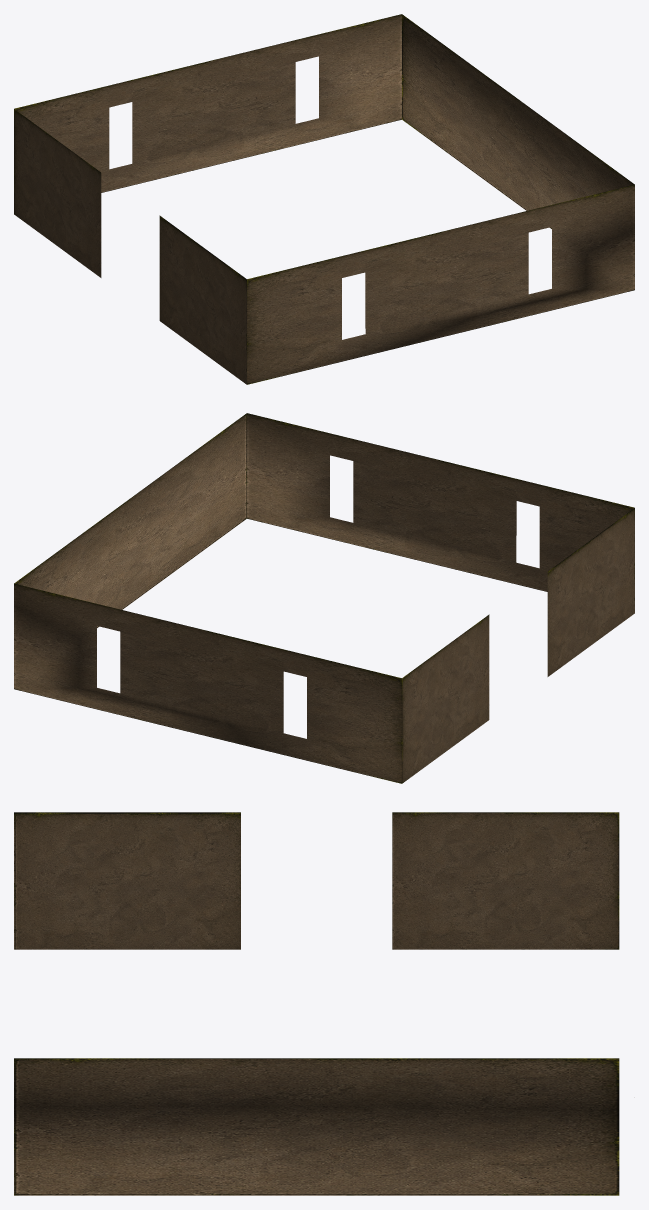
File: temple_innertop_elevator_fourwalls.fbx
The picture shows the model from 3 angles, top to bottom: view 1: azimuth 30°, elevation 25°; view 2: azimuth 150°, elevation 25°; view 3: azimuth 270°, elevation 25°; orthographic projection. The views are drawn at different scales.
Visible parts, largest first — view 1: innertop.003; view 2: innertop.003; view 3: innertop.003.
Boxes of the visible parts, x1,y1,x2,y2 form: innertop.003: [14, 14, 634, 384]; innertop.003: [14, 413, 634, 783]; innertop.003: [14, 812, 619, 1195].
Size of the model in its own units: 140 by 36.53 by 150.
